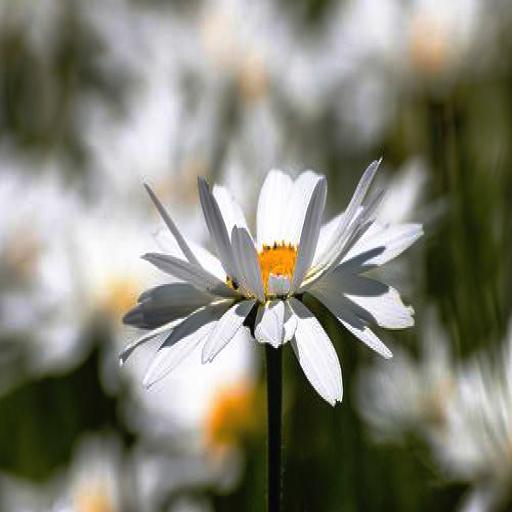daisy: (130, 170, 407, 368)
